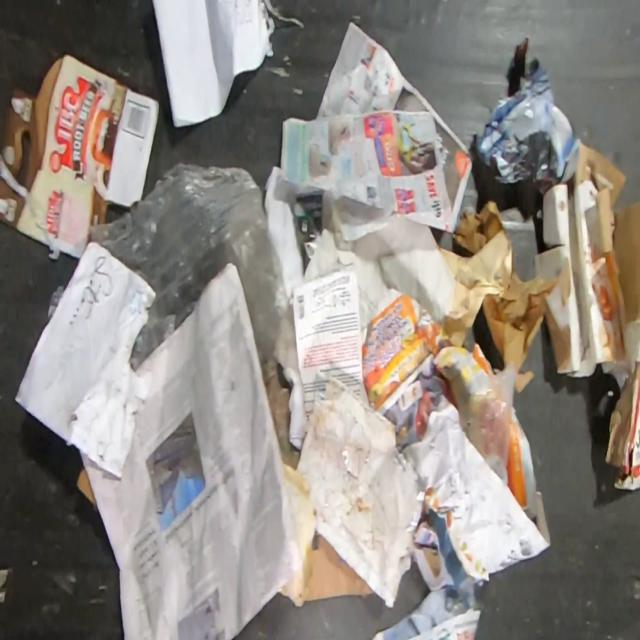cardboard: (1, 51, 160, 260), (534, 135, 639, 395), (302, 533, 375, 603), (604, 361, 639, 493), (0, 175, 50, 248), (70, 464, 98, 510)
soft_plastic: (88, 163, 298, 386), (459, 360, 517, 487), (48, 283, 70, 324)
